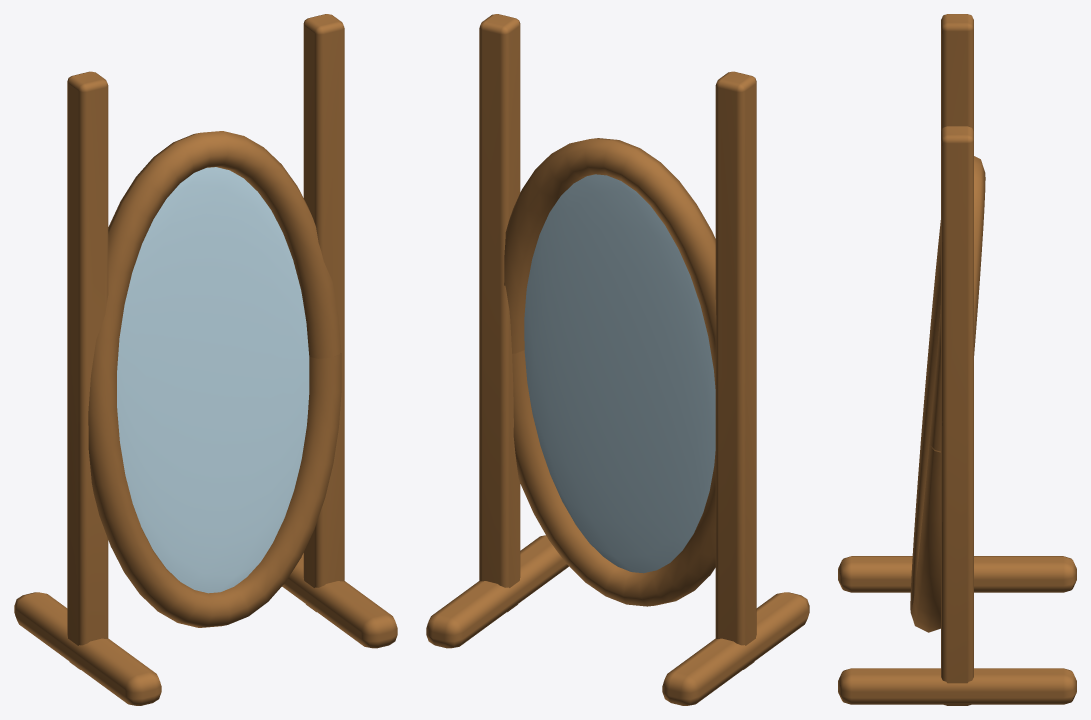
The model's file is furn_mirror_stand.glb.
3 renders of one model, left to right at view 1: azimuth 30°, elevation 25°; view 2: azimuth 150°, elevation 25°; view 3: azimuth 270°, elevation 25°, orthographic. The views are drawn at different scales.
Visible parts, largest first — view 1: furn_mirror_stand_main, furn_mirror_stand_gloss; view 2: furn_mirror_stand_main, furn_mirror_stand_gloss; view 3: furn_mirror_stand_main.
Part boxes in pixels (bbox=[...]): furn_mirror_stand_main: bbox=[14, 14, 397, 705]; furn_mirror_stand_gloss: bbox=[117, 167, 309, 593]; furn_mirror_stand_main: bbox=[426, 14, 809, 705]; furn_mirror_stand_gloss: bbox=[524, 174, 715, 573]; furn_mirror_stand_main: bbox=[838, 14, 1076, 705].
Size of the model in its own units: 0.46 by 0.95 by 0.36.
